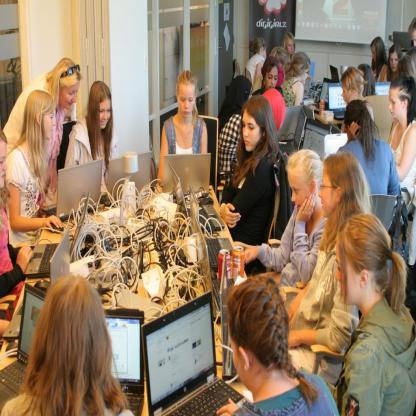board: (130, 301, 227, 416), (2, 226, 70, 344), (0, 283, 48, 415), (23, 190, 90, 278), (194, 218, 238, 322), (103, 309, 145, 416), (168, 160, 225, 233), (41, 159, 103, 223), (190, 183, 234, 272), (99, 150, 152, 206), (219, 252, 241, 383), (164, 154, 211, 199), (278, 107, 307, 156), (301, 118, 330, 160), (308, 77, 339, 114), (276, 105, 304, 141), (328, 82, 346, 120), (324, 135, 348, 160), (234, 246, 245, 280), (392, 32, 412, 50), (219, 249, 230, 281), (375, 82, 390, 96), (330, 64, 342, 81), (328, 122, 342, 133), (318, 100, 325, 116)
